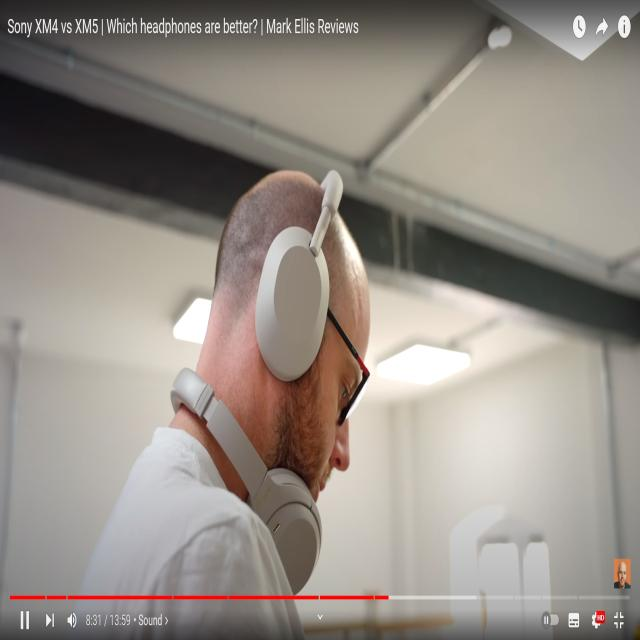Headphone: (168, 366, 325, 594), (254, 165, 346, 385)
